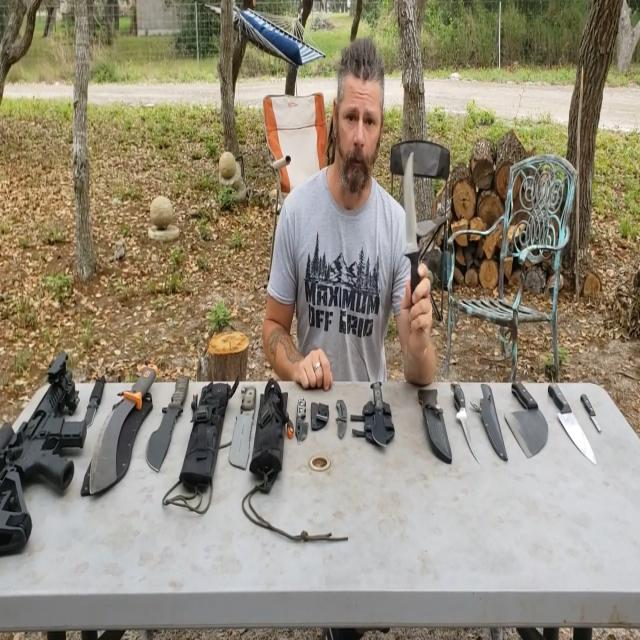knife: (83, 351, 167, 506), (394, 144, 432, 308), (144, 366, 195, 481), (539, 374, 598, 464), (501, 376, 552, 476), (226, 368, 268, 484), (448, 372, 480, 466), (79, 363, 114, 439), (363, 376, 395, 458), (290, 395, 324, 456), (328, 388, 356, 454), (577, 386, 605, 439)
long weapon: (0, 332, 103, 571)
